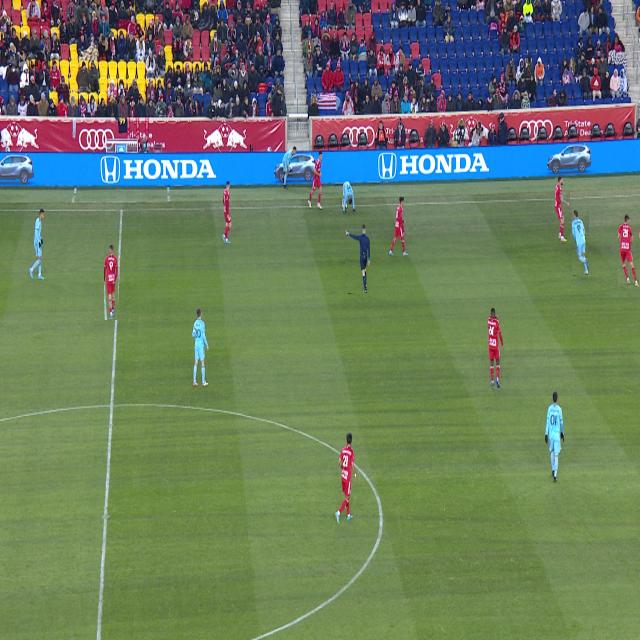player: (335, 433, 357, 524), (546, 392, 563, 482), (619, 215, 639, 287), (487, 309, 504, 388), (192, 308, 209, 387), (389, 197, 408, 256), (572, 211, 589, 275), (104, 244, 118, 320), (29, 209, 44, 279), (555, 177, 570, 242), (308, 151, 322, 209), (222, 181, 232, 244), (342, 181, 355, 213)
referee: (345, 225, 370, 293)
